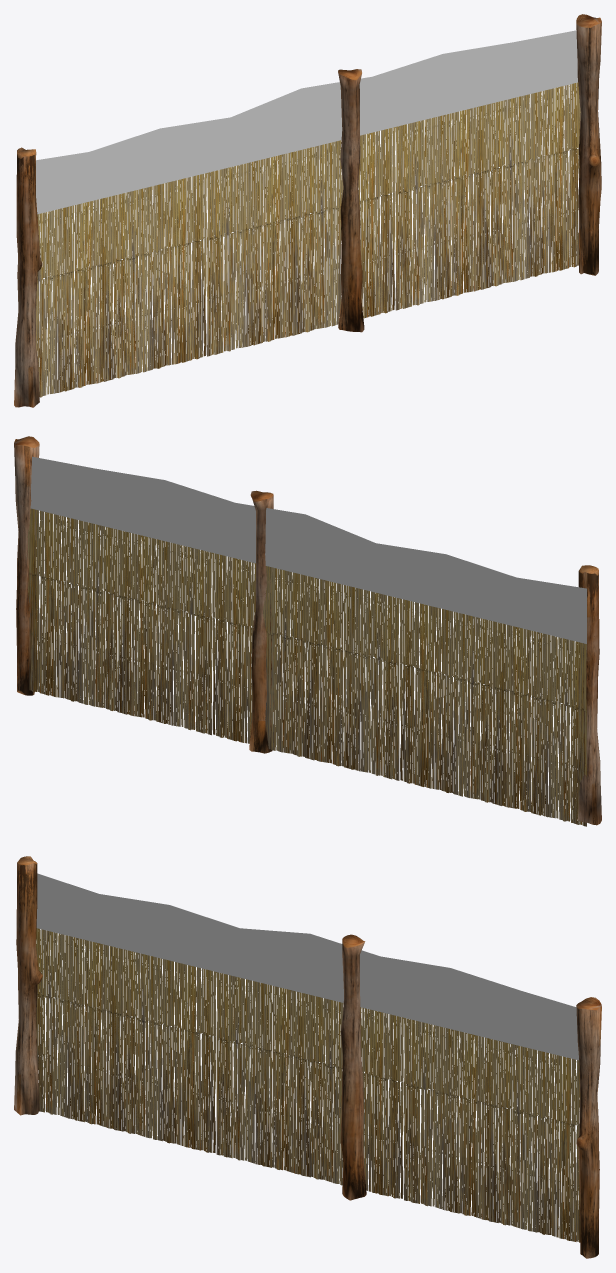
File: bambooFence3.fbx
The picture shows the model from 3 angles, top to bottom: view 1: azimuth 30°, elevation 25°; view 2: azimuth 150°, elevation 25°; view 3: azimuth 330°, elevation 25°; orthographic projection.
Visible parts, largest first — view 1: bambooFence3; view 2: bambooFence3; view 3: bambooFence3.
Part boxes in pixels (box(x1,y1,x2,y2)): bambooFence3: box(14, 14, 601, 407); bambooFence3: box(14, 436, 601, 826); bambooFence3: box(14, 856, 601, 1258).
Bounding box in the file's own units: 641 × 273 × 30.2.
